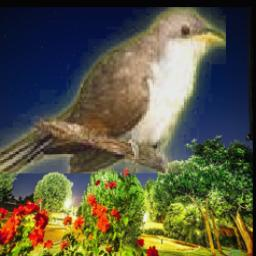Cuckoo: (0, 7, 227, 173)
